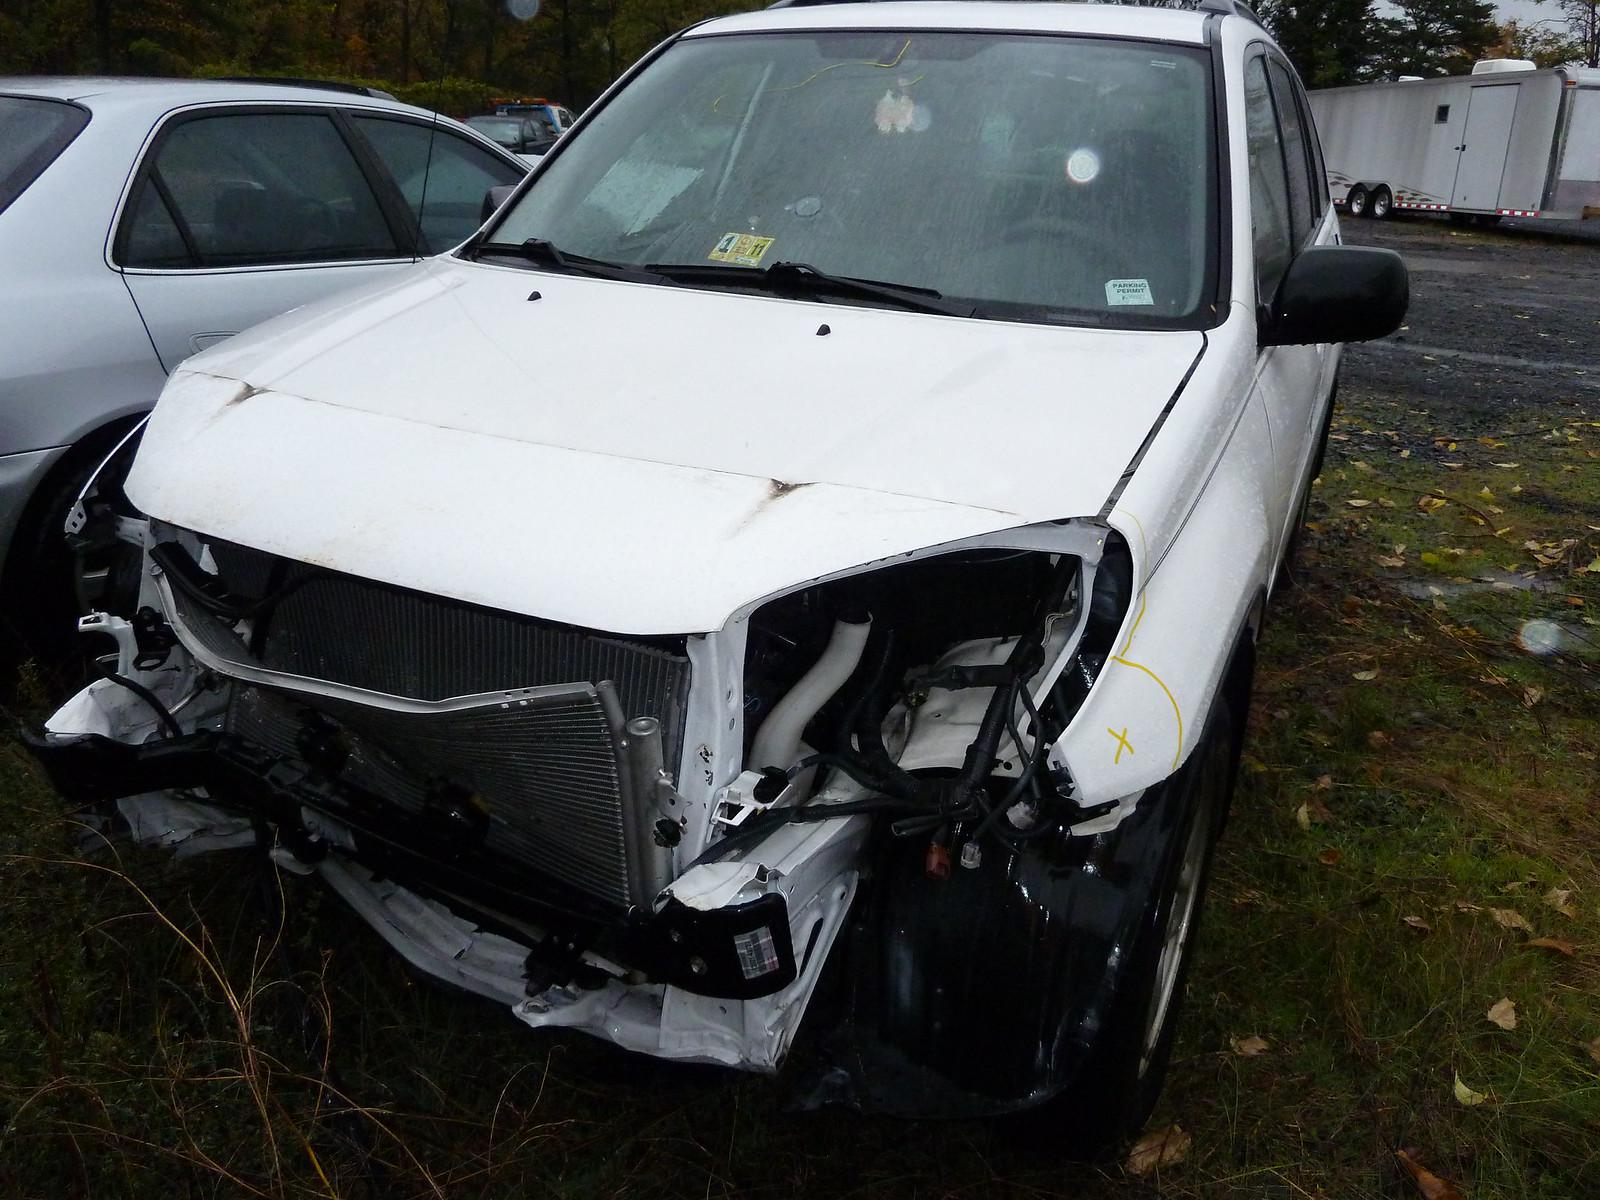bonnet-dent: (128, 306, 1183, 607)
front-bumper-dent: (71, 633, 1096, 986)
